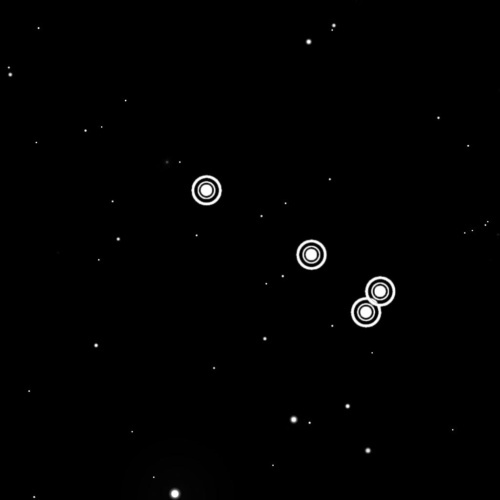sagitta: (188, 169, 401, 335)
